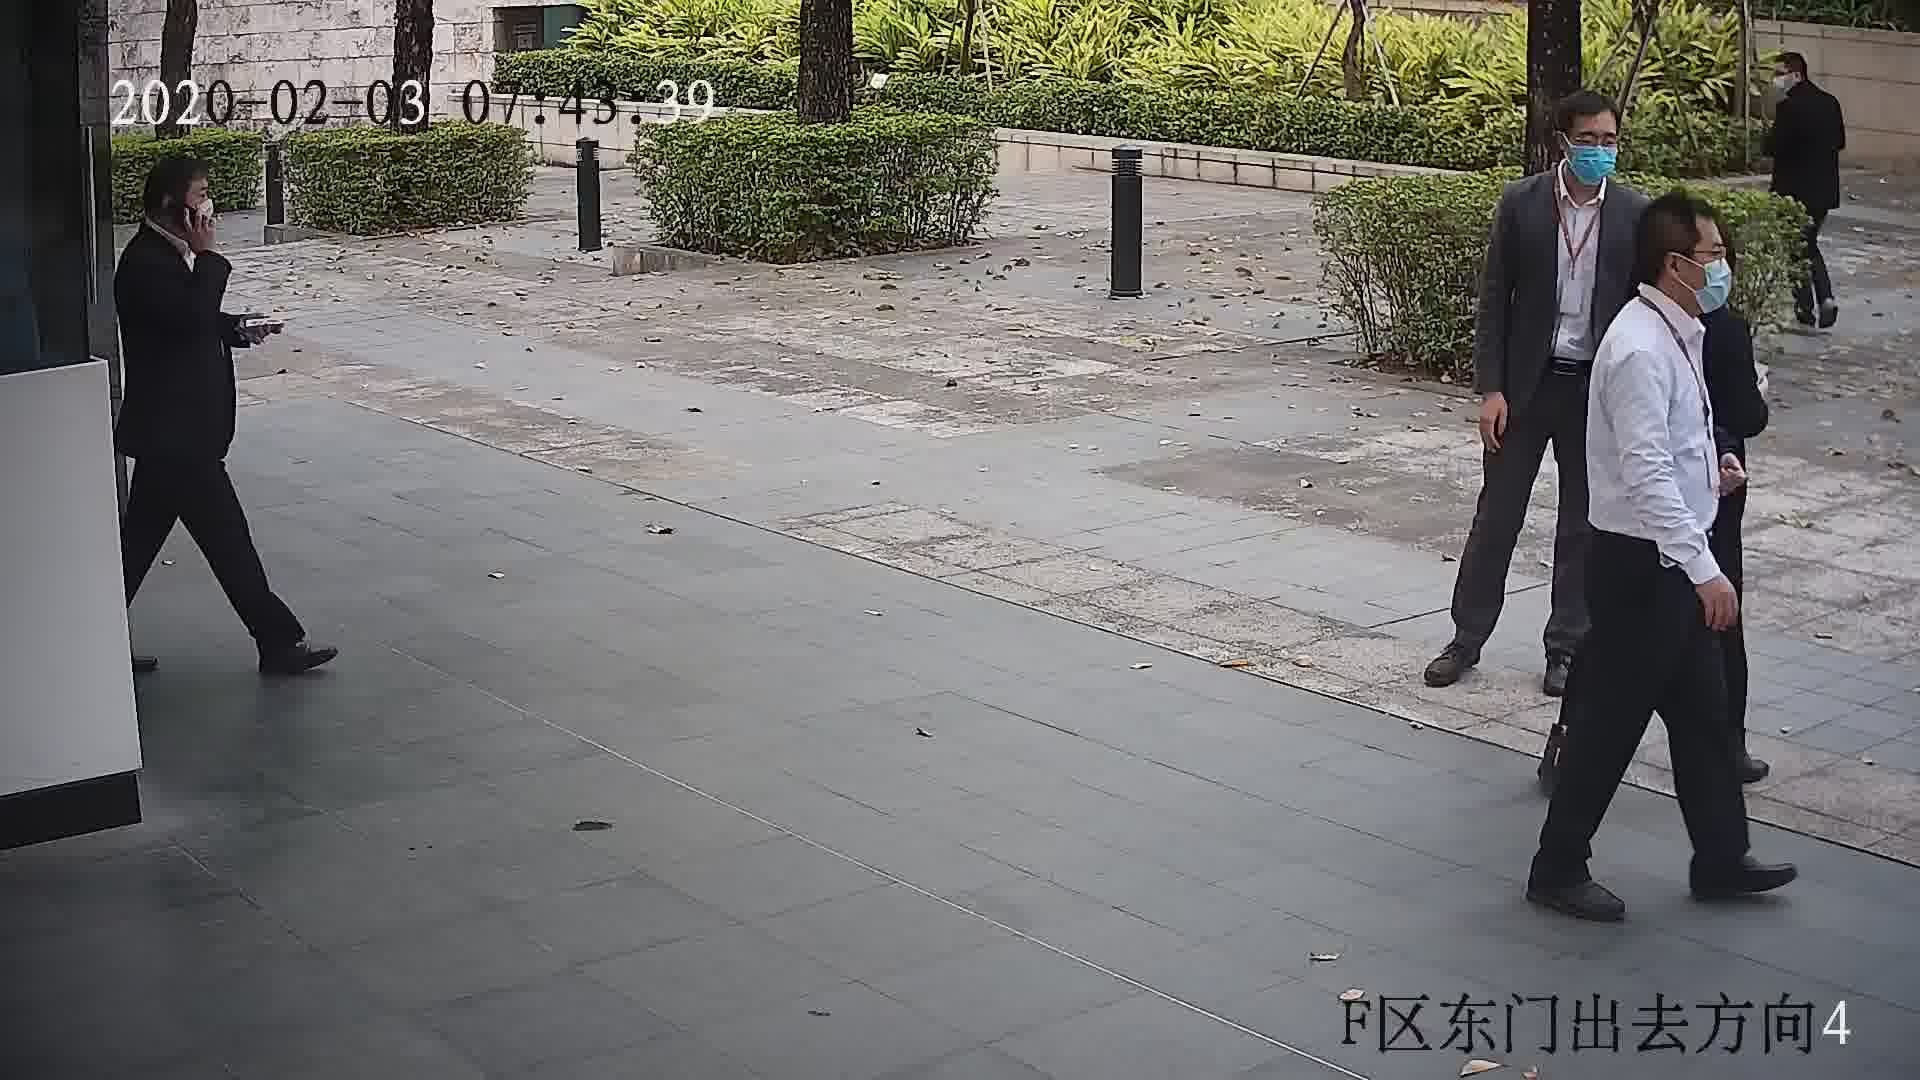face: (1675, 217, 1737, 319), (163, 179, 227, 243), (1570, 108, 1620, 183), (1768, 57, 1796, 96)
mask: (1568, 141, 1621, 186), (1694, 257, 1732, 319), (184, 196, 220, 238)
person: (1596, 191, 1727, 373), (1495, 90, 1646, 224), (106, 153, 220, 299), (1761, 52, 1837, 123)
